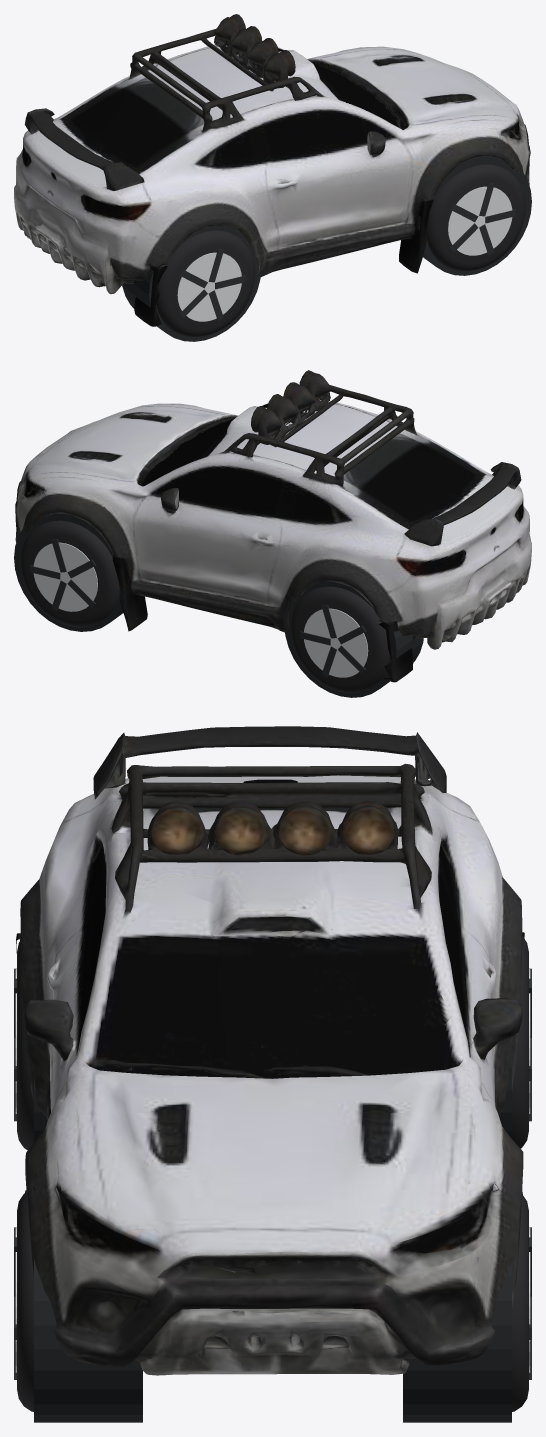
File: rally.glb
3 renders of one model, top to bottom at view 1: azimuth 30°, elevation 25°; view 2: azimuth 150°, elevation 25°; view 3: azimuth 270°, elevation 25°, orthographic. The views are drawn at different scales.
Visible parts, largest first — view 1: Body, Wheel_FR, Wheel_RR, Liner_RR, Liner_FR; view 2: Body, Wheel_FL, Wheel_RL, Liner_RL, Liner_FL; view 3: Body, Liner_FR, Liner_FL, Wheel_FR, Wheel_FL, Wheel_RL, Wheel_RR.
Part boxes in pixels (<box>): Body: <box>14,14,530,326</box>; Wheel_FR: <box>426,164,525,271</box>; Wheel_RR: <box>156,230,255,337</box>; Liner_RR: <box>122,226,261,341</box>; Liner_FR: <box>416,156,531,275</box>; Body: <box>15,370,531,682</box>; Wheel_FL: <box>20,520,119,627</box>; Wheel_RL: <box>290,586,389,693</box>; Liner_RL: <box>284,581,423,697</box>; Liner_FL: <box>14,513,123,631</box>; Body: <box>16,726,524,1375</box>; Liner_FR: <box>34,1258,142,1422</box>; Liner_FL: <box>403,1263,511,1422</box>; Wheel_FR: <box>14,1192,33,1411</box>; Wheel_FL: <box>512,1194,531,1411</box>; Wheel_RL: <box>512,936,531,1148</box>; Wheel_RR: <box>14,940,33,1150</box>.
Size of the model in its own units: 2.02 by 0.988 by 1.01.
5 materials, 1 textured.
